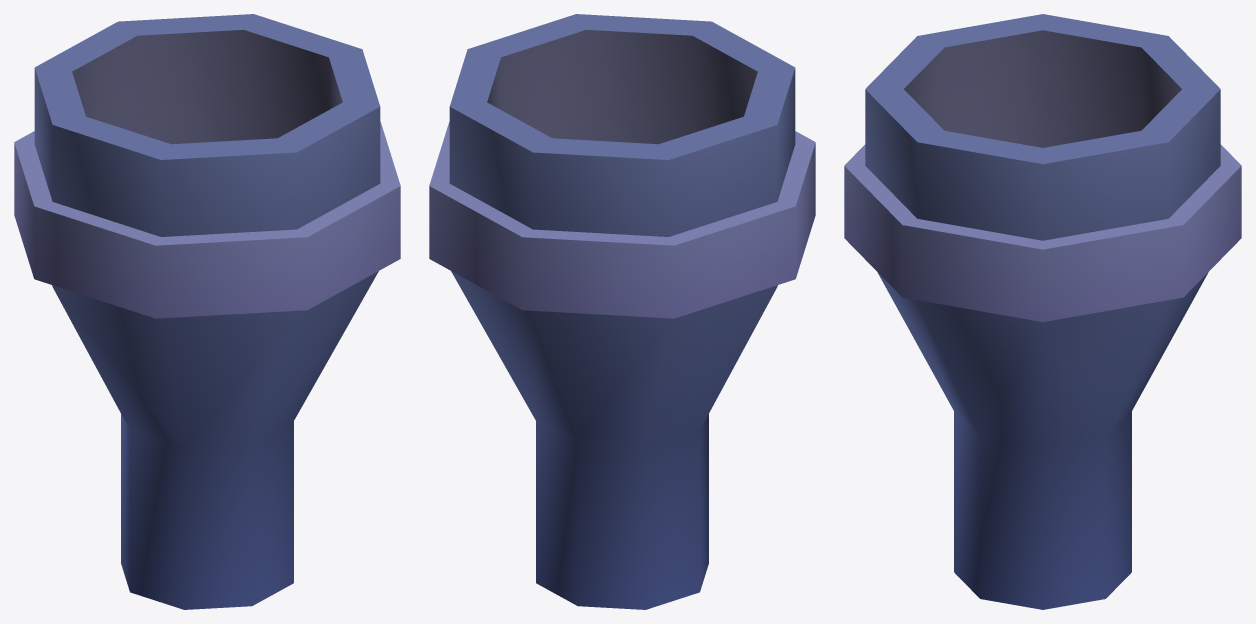
File: kenney-factory-hopper-high-round.glb
3 renders of one model, left to right at view 1: azimuth 30°, elevation 25°; view 2: azimuth 150°, elevation 25°; view 3: azimuth 270°, elevation 25°, orthographic.
Visible parts, largest first — view 1: hopper-high-round; view 2: hopper-high-round; view 3: hopper-high-round.
Boxes of the visible parts, box(x1,y1,x2,y2) form: hopper-high-round: box(14, 14, 400, 609); hopper-high-round: box(429, 14, 815, 609); hopper-high-round: box(844, 14, 1241, 609).
Bounding box in the file's own units: 1.68 × 2.25 × 1.68.
Materials: 1 (1 with a texture image).
